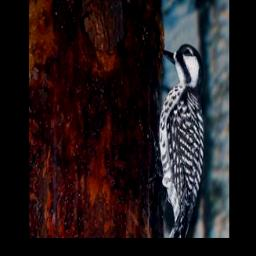Woodpecker: (147, 36, 207, 237)
